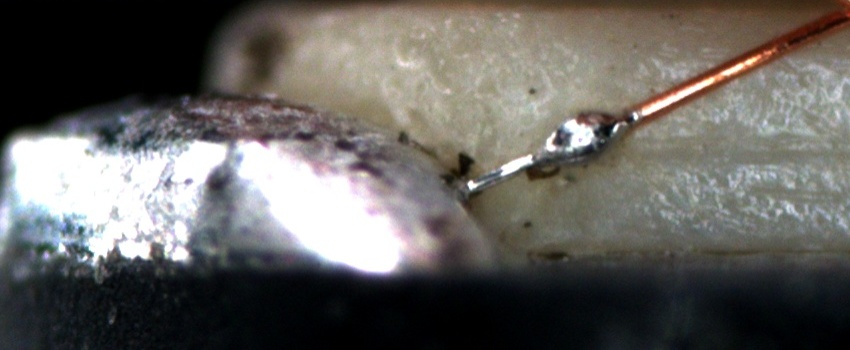DL: (637, 120, 850, 178), (663, 32, 850, 96), (731, 179, 850, 222)
TB: (537, 109, 630, 172)
TS: (465, 109, 636, 195)
TTCW: (459, 86, 675, 201)
